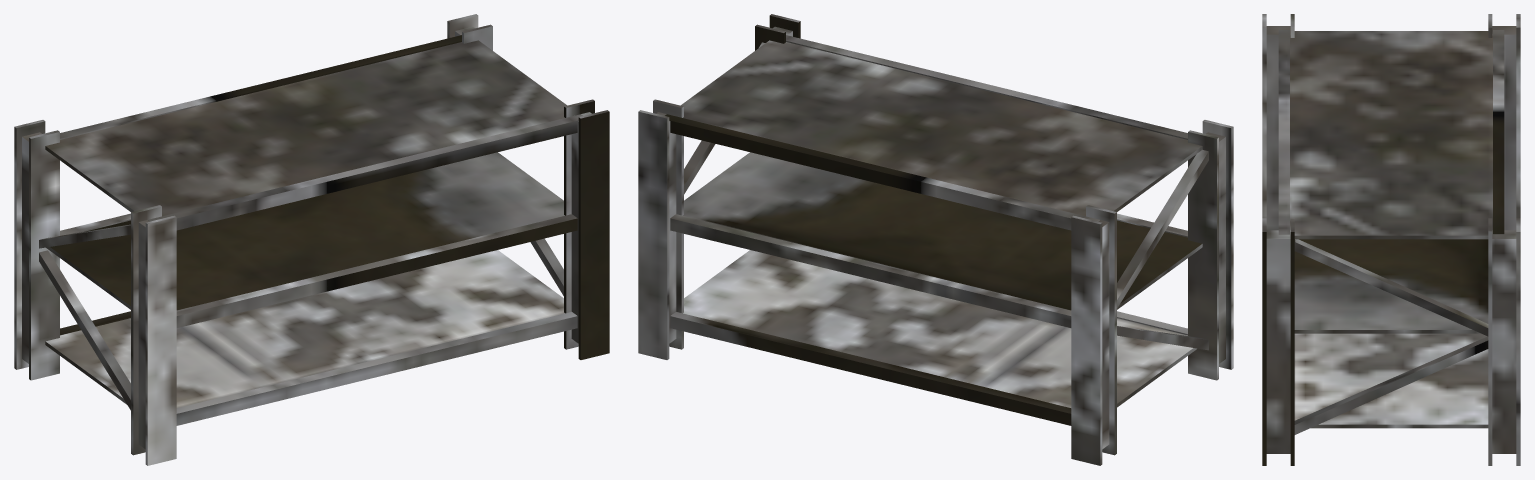
Rendered from strct_WH_B_defaultshelving.fbx.
3 renders of one model, left to right at view 1: azimuth 30°, elevation 25°; view 2: azimuth 150°, elevation 25°; view 3: azimuth 270°, elevation 25°, orthographic. The views are drawn at different scales.
Parts seen in each view (by area): view 1: polySurface23; view 2: polySurface23; view 3: polySurface23.
Part boxes in pixels (<box>): polySurface23: <box>14,14,609,465</box>; polySurface23: <box>638,14,1233,465</box>; polySurface23: <box>1262,14,1520,465</box>.
Bounding box in the file's own units: 256 × 128 × 128.
